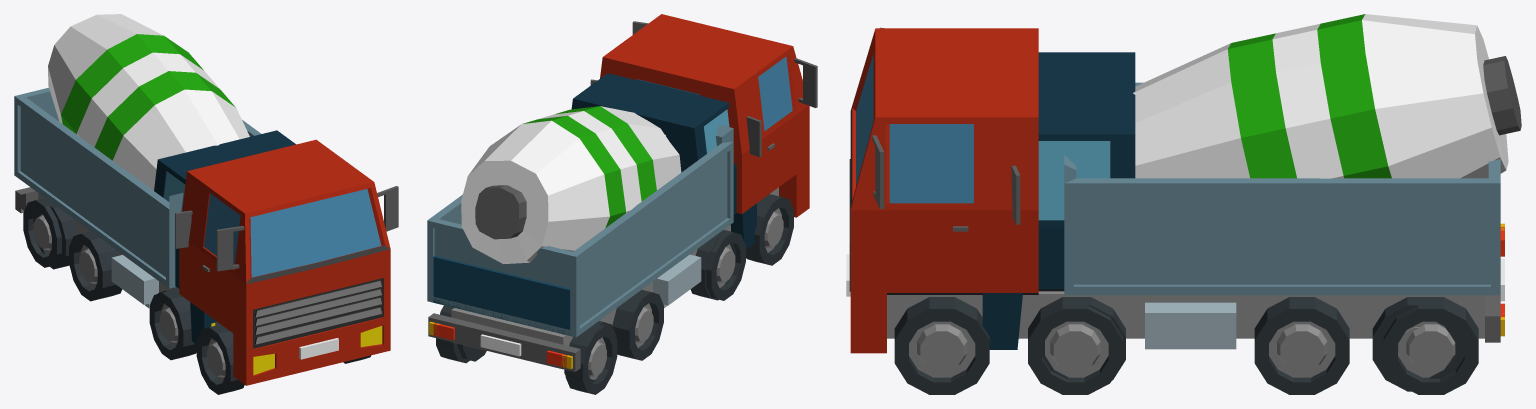
Rendered from Trucks.glb.
3 views of the same model, side by side, from view 1: azimuth 30°, elevation 25°; view 2: azimuth 150°, elevation 25°; view 3: azimuth 270°, elevation 25° (orthographic). The views are drawn at different scales.
Visible parts, largest first — view 1: Base Truck, Concrete Truck Green, Dumper Truck Green, Small Truck; view 2: Base Truck, Concrete Truck Green, Dumper Truck Green, Small Truck; view 3: Base Truck, Concrete Truck Green, Dumper Truck Green, Small Truck.
Part boxes in pixels (box(x1,y1,x2,y2)): Base Truck: box(15, 139, 398, 394); Concrete Truck Green: box(48, 14, 249, 190); Dumper Truck Green: box(14, 87, 260, 288); Small Truck: box(21, 130, 295, 348); Base Truck: box(428, 14, 817, 394); Concrete Truck Green: box(461, 106, 681, 263); Dumper Truck Green: box(427, 124, 733, 337); Small Truck: box(433, 73, 761, 382); Base Truck: box(846, 27, 1504, 394); Concrete Truck Green: box(1133, 14, 1521, 178); Dumper Truck Green: box(1064, 82, 1500, 295); Small Truck: box(982, 52, 1504, 391).
Size of the model in its own units: 3.13 by 3.81 by 7.18.
Materials: 1 (1 with a texture image).
